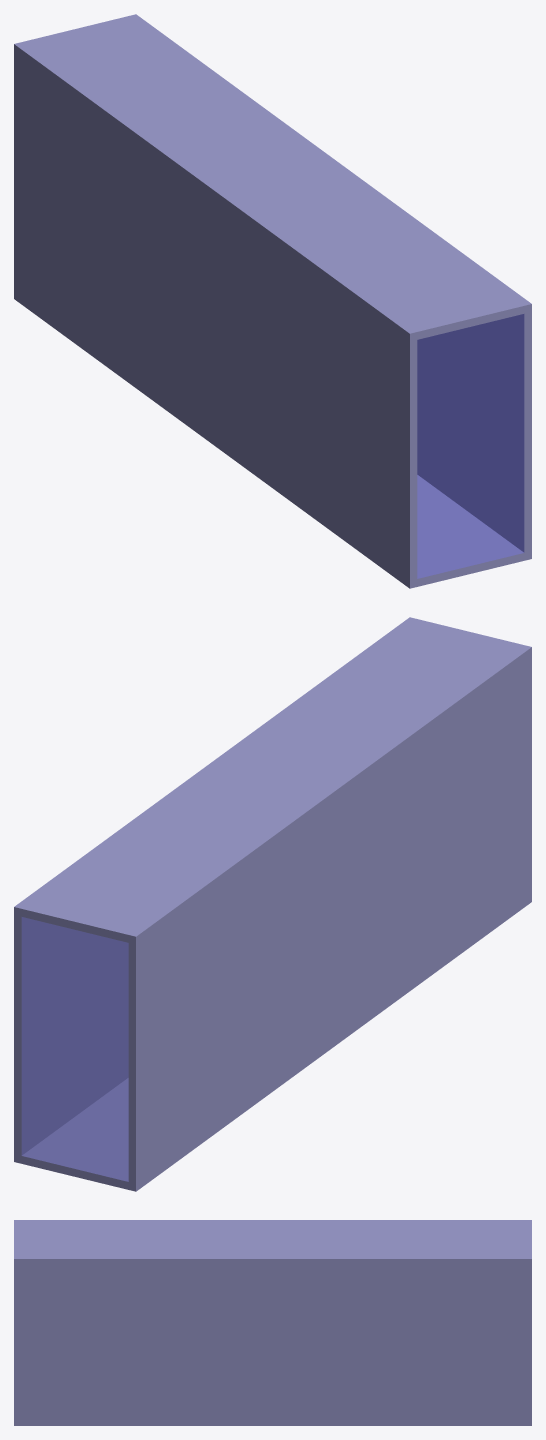
Rendered from DipoleChamberUstrMag.gltf.
The picture shows the model from 3 angles, top to bottom: view 1: azimuth 30°, elevation 25°; view 2: azimuth 150°, elevation 25°; view 3: azimuth 270°, elevation 25°; orthographic projection. The views are drawn at different scales.
Parts seen in each view (by area): view 1: DipoleChamberUstrMag0x224c180, DipoleChamberUstrMagVac0x224c3b0; view 2: DipoleChamberUstrMag0x224c180, DipoleChamberUstrMagVac0x224c3b0; view 3: DipoleChamberUstrMag0x224c180.
Part boxes in pixels (x1,y1,x2,y2): DipoleChamberUstrMag0x224c180: (14, 14, 531, 588); DipoleChamberUstrMagVac0x224c3b0: (417, 314, 523, 578); DipoleChamberUstrMag0x224c180: (14, 617, 531, 1191); DipoleChamberUstrMagVac0x224c3b0: (22, 917, 128, 1181); DipoleChamberUstrMag0x224c180: (14, 1220, 531, 1425).
Size of the model in its own units: 5.11 by 10.19 by 28.66.
